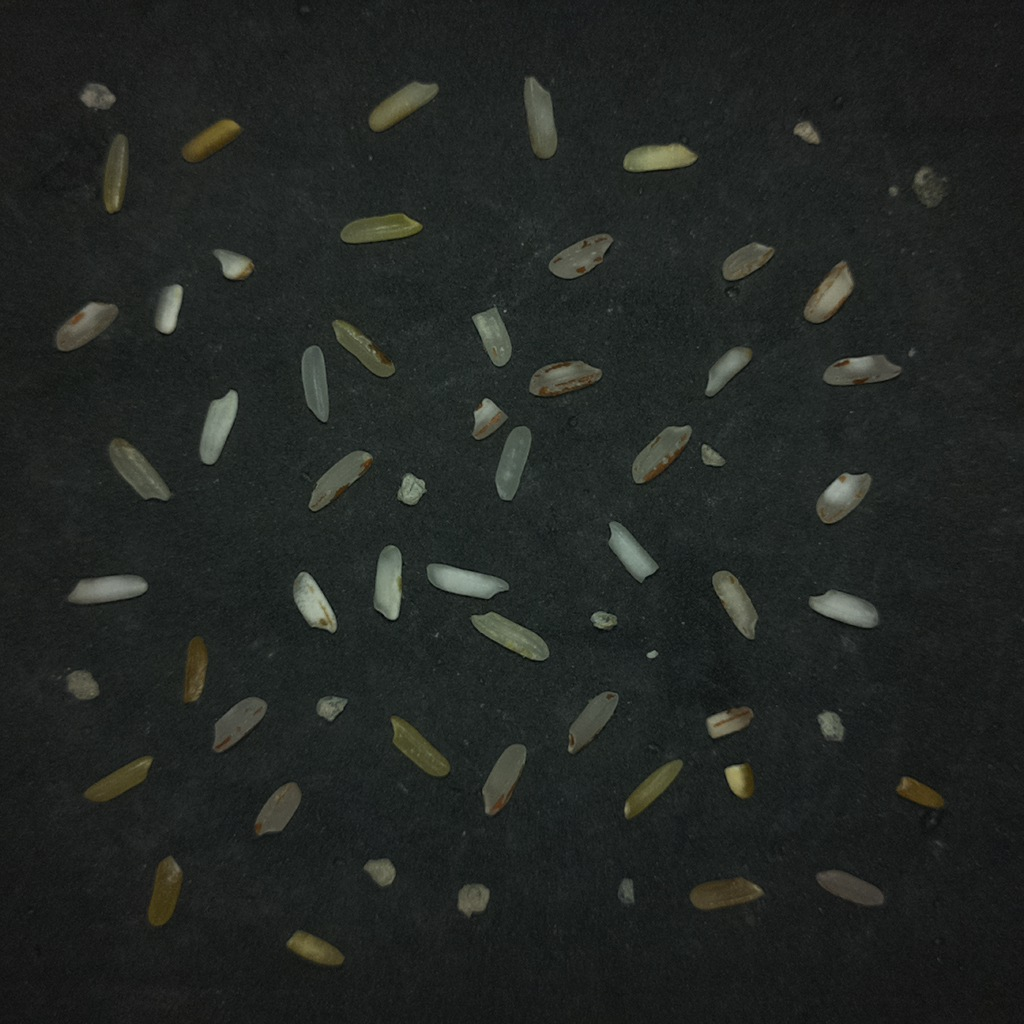broken: (471, 612, 549, 660), (368, 81, 439, 133), (713, 570, 757, 639), (689, 877, 763, 910), (472, 307, 511, 366), (103, 134, 129, 214), (721, 242, 773, 280), (212, 248, 253, 280), (363, 858, 396, 887), (817, 710, 845, 742), (617, 878, 634, 906)
chalky: (608, 522, 657, 582), (427, 563, 508, 599), (199, 389, 237, 464), (293, 571, 337, 633), (808, 590, 879, 628), (67, 574, 147, 604), (705, 346, 752, 396), (373, 546, 402, 620), (154, 284, 183, 335), (724, 763, 754, 799)
damaged: (108, 438, 170, 500), (181, 119, 240, 162), (147, 856, 182, 926), (286, 930, 344, 966), (183, 636, 208, 704), (896, 776, 944, 809), (706, 706, 753, 738)
discolored: (391, 716, 450, 777), (624, 759, 682, 819), (83, 755, 154, 803), (341, 212, 421, 243), (623, 143, 697, 172)
foreign: (912, 166, 949, 207), (457, 883, 489, 917), (396, 473, 426, 506), (79, 83, 115, 109), (66, 670, 97, 699), (317, 696, 346, 720), (793, 120, 820, 144), (701, 443, 725, 466), (590, 610, 617, 630)
red: (308, 450, 372, 511), (332, 319, 394, 377), (632, 425, 691, 483), (567, 691, 618, 753), (482, 744, 526, 815), (803, 261, 853, 323), (55, 302, 118, 351), (548, 233, 613, 279), (212, 697, 266, 752), (816, 473, 871, 524), (529, 360, 602, 396), (254, 782, 300, 835), (823, 354, 901, 385), (472, 398, 507, 439)
whole: (523, 76, 556, 158), (495, 425, 531, 500), (816, 869, 884, 906), (301, 345, 329, 422)
